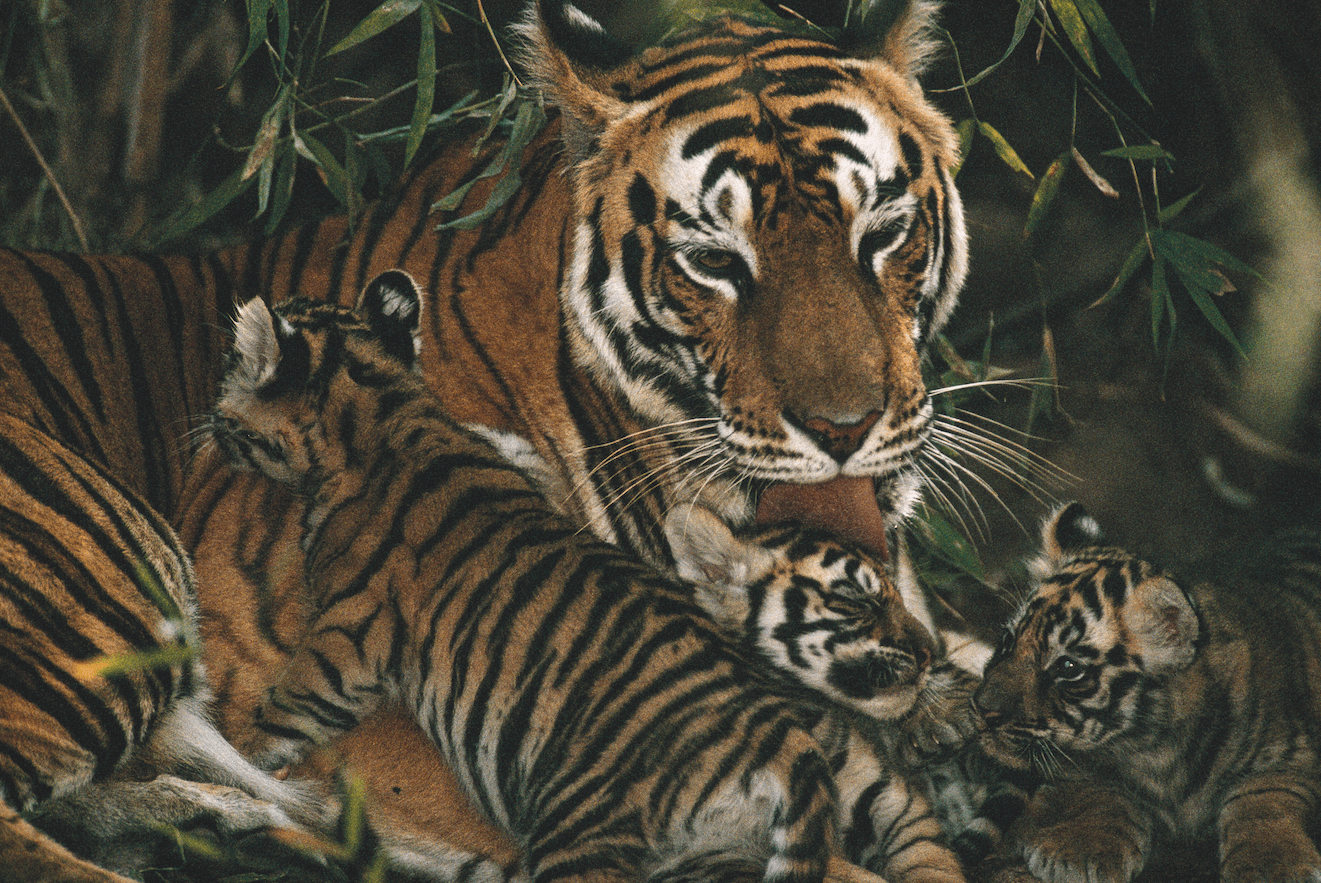Tigrew: (272, 33, 1043, 531), (137, 253, 775, 848), (993, 480, 1303, 878), (658, 498, 998, 734)
